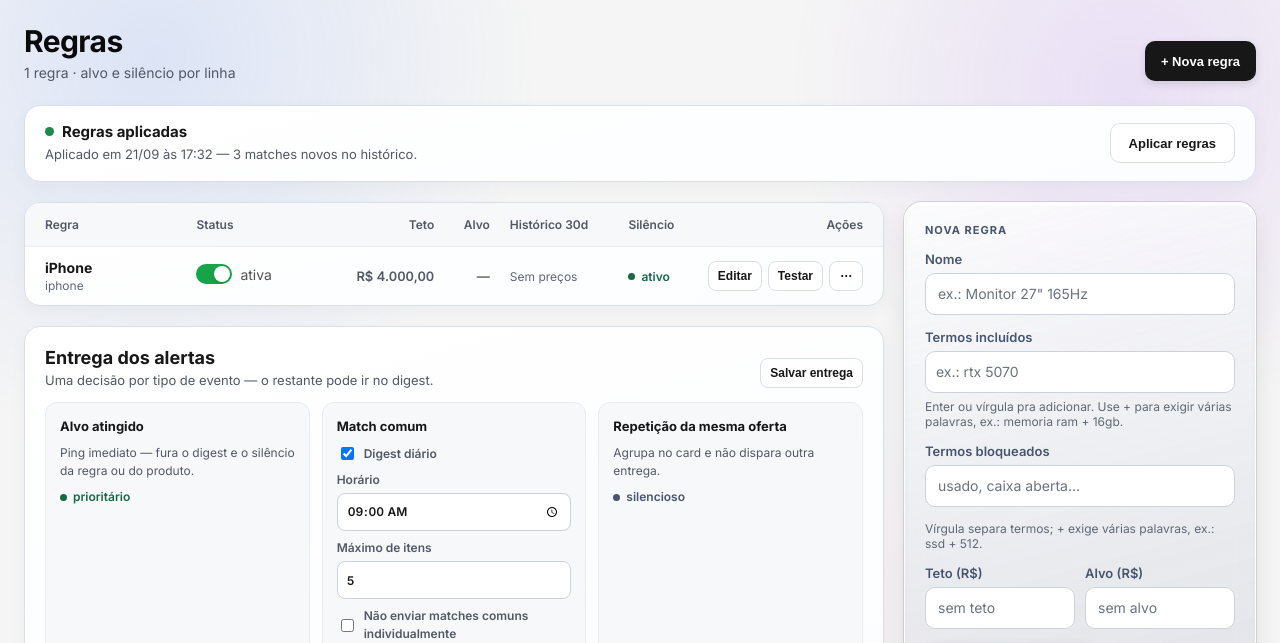
Test: RegrasPage › S13-07: a failed dry-run shows a readable error, not a raw failure
Click the button "Testar" in the row of "R$ 4.000,00": [795, 276] box 768,261 -> 823,291
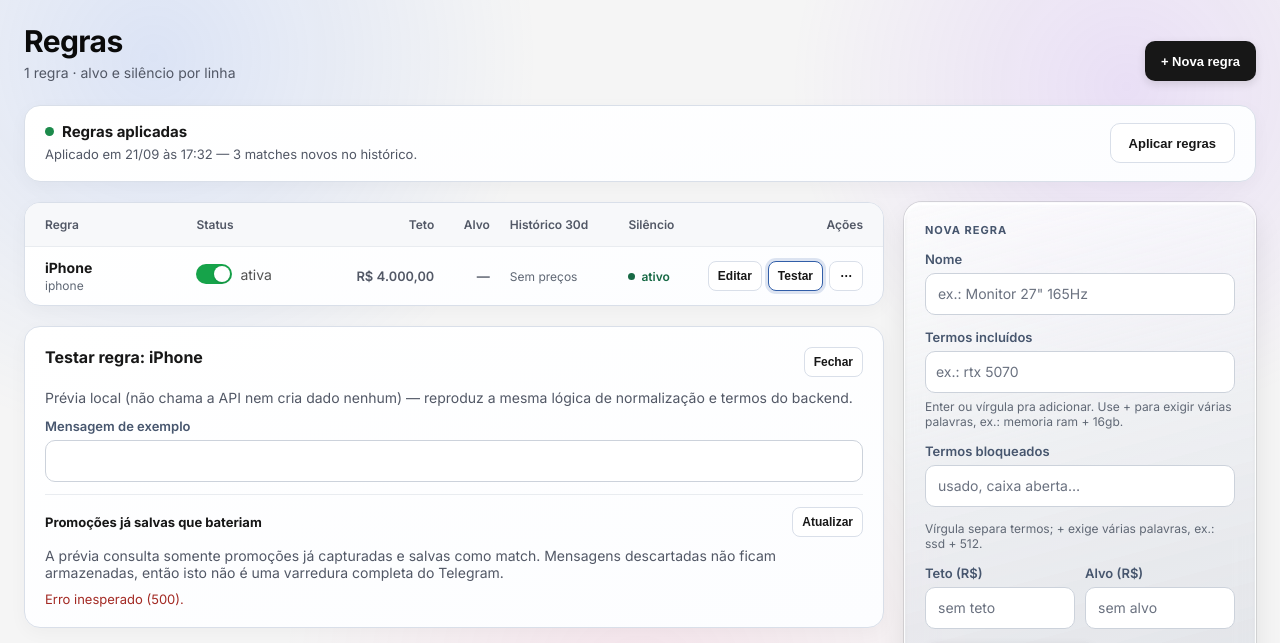
Result: the message reads "Erro inesperado (500)." at 45,591 -> 184,607
